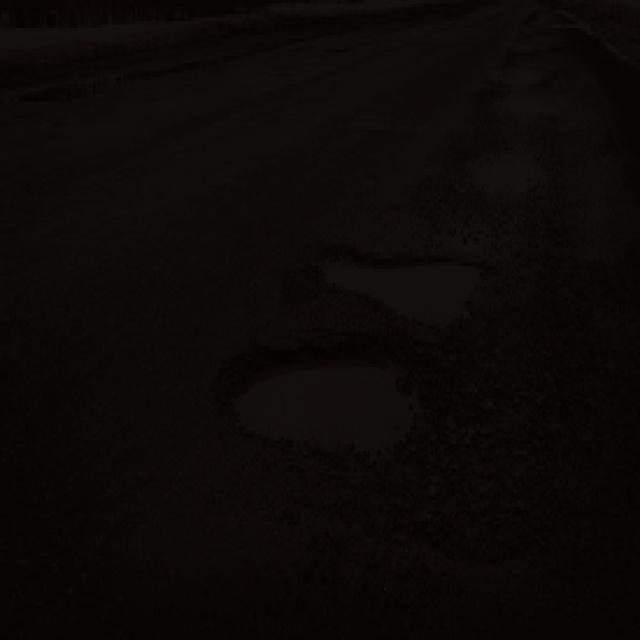Pothole: (439, 13, 640, 242), (196, 318, 433, 486), (284, 227, 498, 339)
